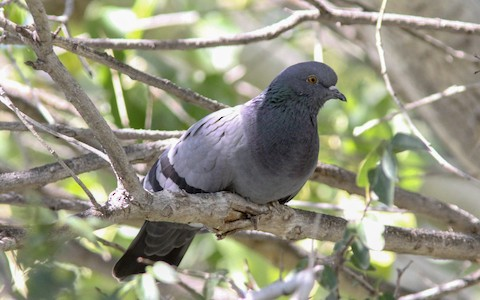pigeon: (110, 59, 351, 289)
